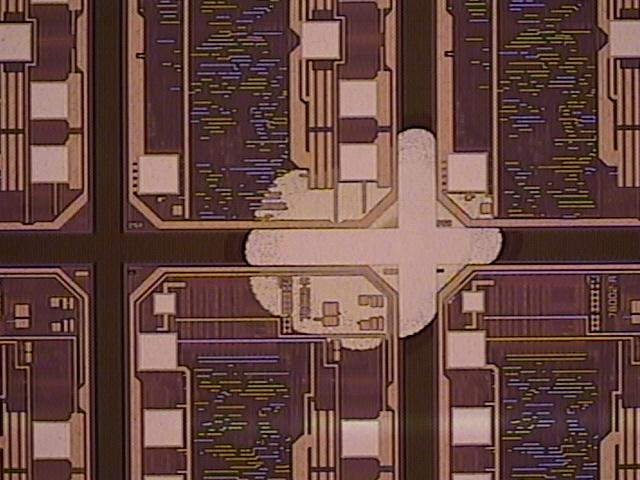BLOCK ETCH: (224, 114, 523, 364)
